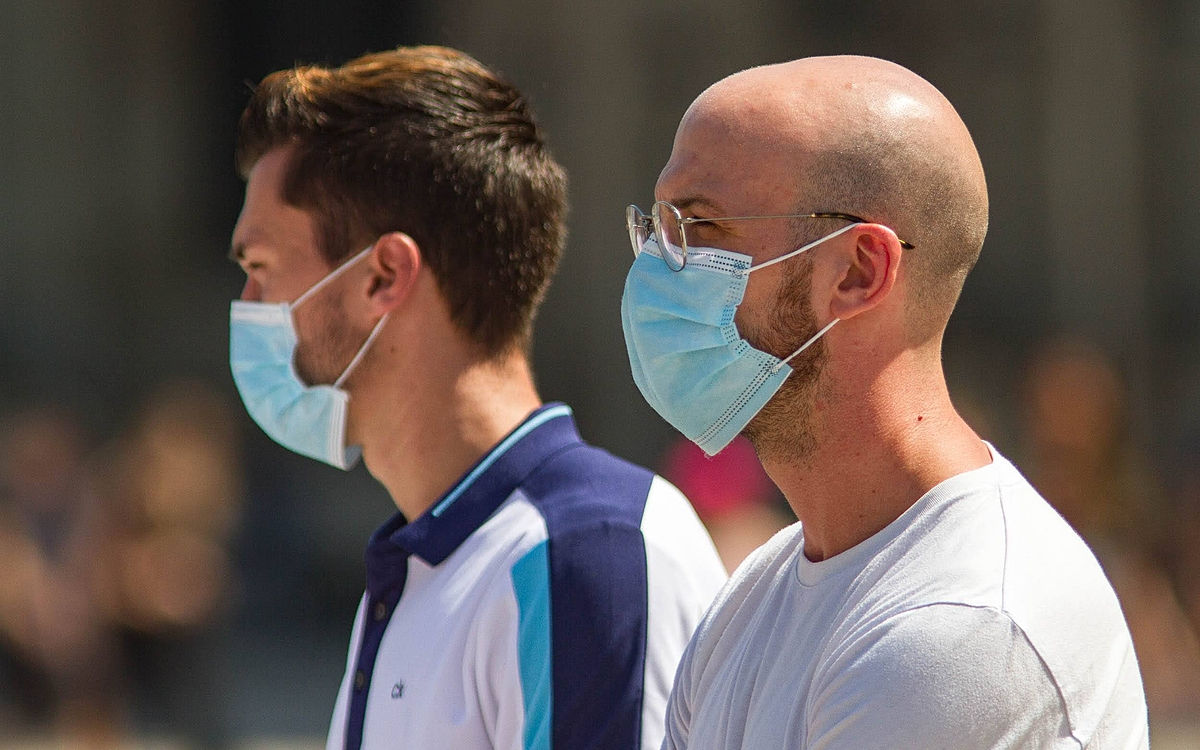with_mask: (604, 115, 826, 460), (198, 202, 388, 487)
